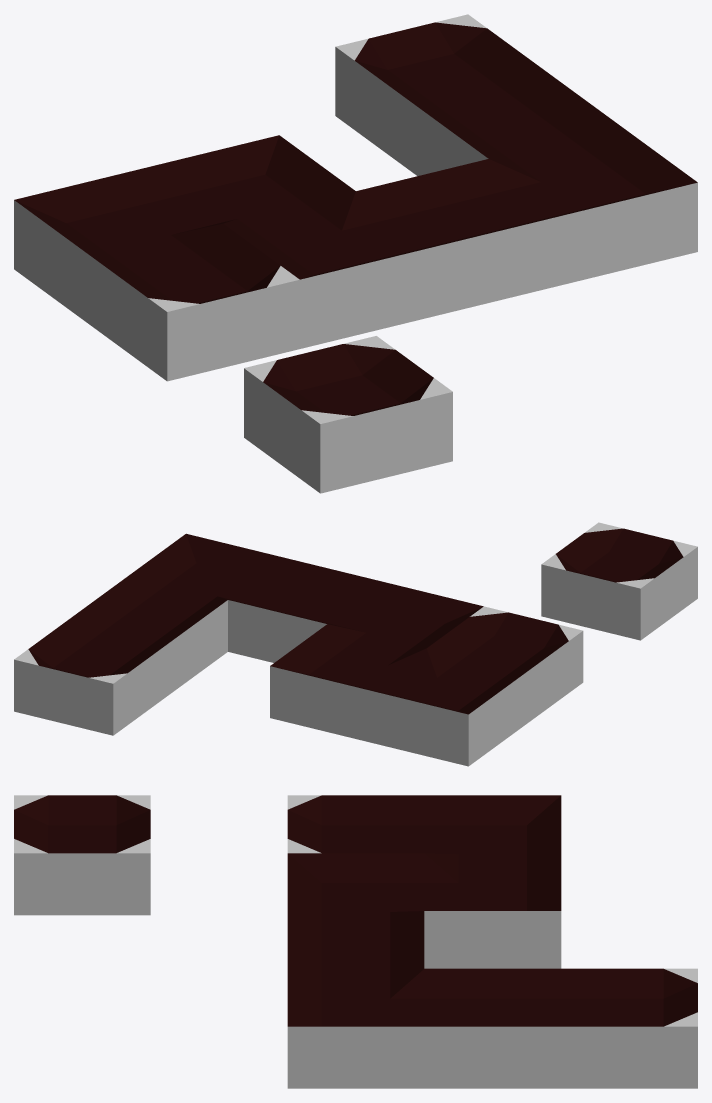
The model's file is 47f_path.obj.
3 views of the same model, one above another, from view 1: azimuth 30°, elevation 25°; view 2: azimuth 150°, elevation 25°; view 3: azimuth 270°, elevation 25° (orthographic). The views are drawn at different scales.
Visible parts, largest first — view 1: foil.hole.1.0_Cube.095, foil.ending.1.2_ending.187, foil.through.3.2_through.092, foil.corner.4.2_corner.473, foil.ending.4.4_ending.188, foil.corner.2.2_corner.471, foil.corner.1.3_corner.470, foil.through.4.3_through.093, foil.corner.2.3_corner.472; view 2: foil.hole.1.0_Cube.095, foil.ending.4.4_ending.188, foil.corner.1.3_corner.470, foil.corner.2.3_corner.472, foil.ending.1.2_ending.187, foil.through.3.2_through.092, foil.through.4.3_through.093, foil.corner.4.2_corner.473, foil.corner.2.2_corner.471; view 3: foil.through.4.3_through.093, foil.hole.1.0_Cube.095, foil.ending.4.4_ending.188, foil.corner.4.2_corner.473, foil.corner.2.3_corner.472, foil.corner.1.3_corner.470, foil.corner.2.2_corner.471, foil.ending.1.2_ending.187, foil.through.3.2_through.092.
Part boxes in pixels (x1,y1,x2,y2): foil.hole.1.0_Cube.095: (244,336,452,493); foil.ending.1.2_ending.187: (90,223,299,381); foil.through.3.2_through.092: (356,159,565,316); foil.corner.4.2_corner.473: (489,126,697,284); foil.ending.4.4_ending.188: (335,14,544,171); foil.corner.2.2_corner.471: (224,191,432,348); foil.corner.1.3_corner.470: (14,167,222,324); foil.through.4.3_through.093: (412,70,620,175); foil.corner.2.3_corner.472: (147,135,355,232); foil.hole.1.0_Cube.095: (541,522,697,640); foil.ending.4.4_ending.188: (14,617,170,735); foil.corner.1.3_corner.470: (369,648,525,766); foil.corner.2.3_corner.472: (270,624,426,741); foil.ending.1.2_ending.187: (427,606,583,724); foil.through.3.2_through.092: (228,558,384,662); foil.through.4.3_through.093: (71,575,227,693); foil.corner.4.2_corner.473: (129,533,284,606); foil.corner.2.2_corner.471: (328,582,483,655); foil.through.4.3_through.093: (424,968,561,1088); foil.hole.1.0_Cube.095: (14,795,150,915); foil.ending.4.4_ending.188: (561,968,697,1088); foil.corner.4.2_corner.473: (287,969,424,1088); foil.corner.2.3_corner.472: (424,853,561,968); foil.corner.1.3_corner.470: (424,795,561,868); foil.corner.2.2_corner.471: (287,853,424,926); foil.ending.1.2_ending.187: (287,795,424,853); foil.through.3.2_through.092: (287,911,424,984).
Bounding box in the file's own units: 8 × 1 × 10.
